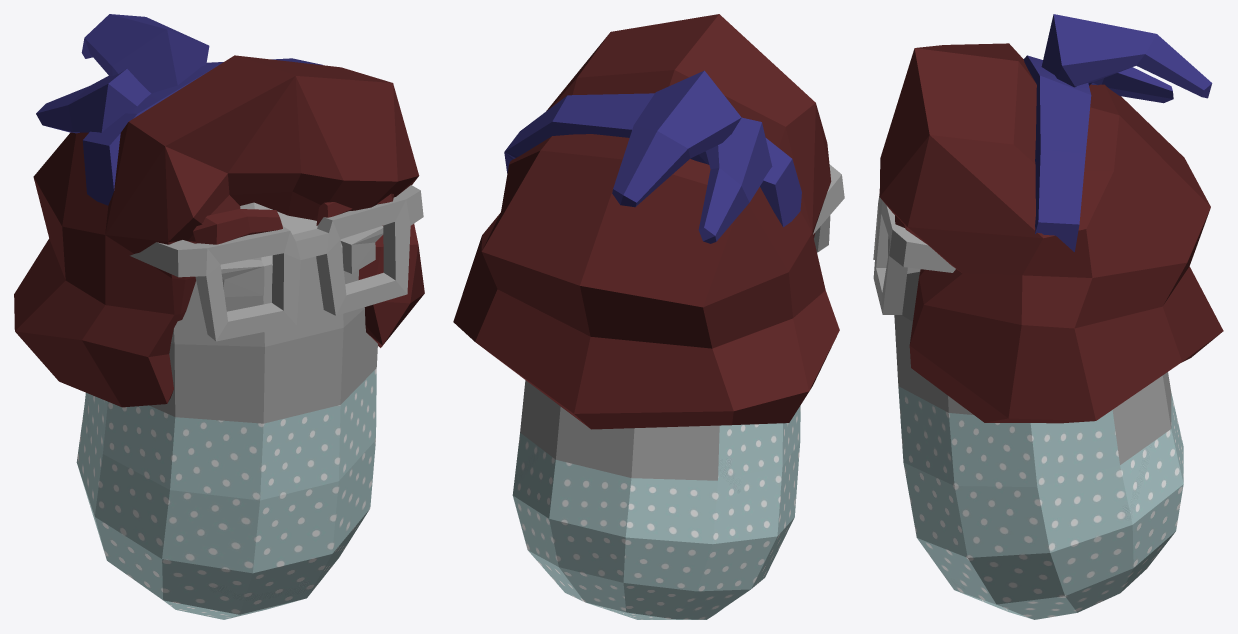
The model's file is CapsuleFemaleMDLwMAT.fbx.
The picture shows the model from 3 angles, left to right: view 1: azimuth 30°, elevation 25°; view 2: azimuth 150°, elevation 25°; view 3: azimuth 270°, elevation 25°; orthographic projection. The views are drawn at different scales.
Visible parts, largest first — view 1: Body, Hair01, Glasses, Hair03, Hair02, Bow, Brow_L, Eye_L, Eye_R; view 2: Hair01, Body, Hair03, Bow, Hair02, Glasses; view 3: Hair01, Body, Bow, Hair03, Glasses, Hair02.
Boxes of the visible parts, x1,y1,x2,y2 form: Body: [76, 202, 377, 619]; Hair01: [14, 55, 424, 407]; Glasses: [130, 185, 423, 341]; Hair03: [81, 14, 209, 93]; Hair02: [36, 69, 151, 133]; Bow: [82, 58, 322, 205]; Brow_L: [193, 209, 282, 244]; Eye_L: [220, 259, 264, 297]; Eye_R: [340, 226, 383, 273]; Hair01: [453, 14, 839, 429]; Body: [512, 380, 800, 619]; Hair03: [612, 70, 741, 207]; Bow: [504, 93, 801, 227]; Hair02: [698, 117, 772, 243]; Glasses: [813, 164, 844, 252]; Hair01: [879, 43, 1223, 423]; Body: [894, 271, 1183, 619]; Bow: [1023, 55, 1091, 251]; Hair03: [1041, 14, 1212, 98]; Glasses: [873, 194, 955, 314]; Hair02: [1091, 67, 1173, 103].
Size of the model in its own units: 1.29 by 1.94 by 1.09.
Materials: 4 (1 with a texture image).
